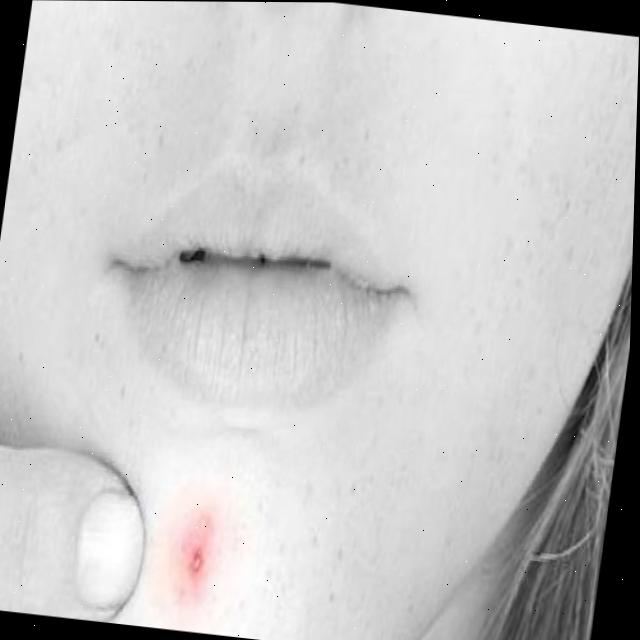Acne: (178, 538, 218, 586)
